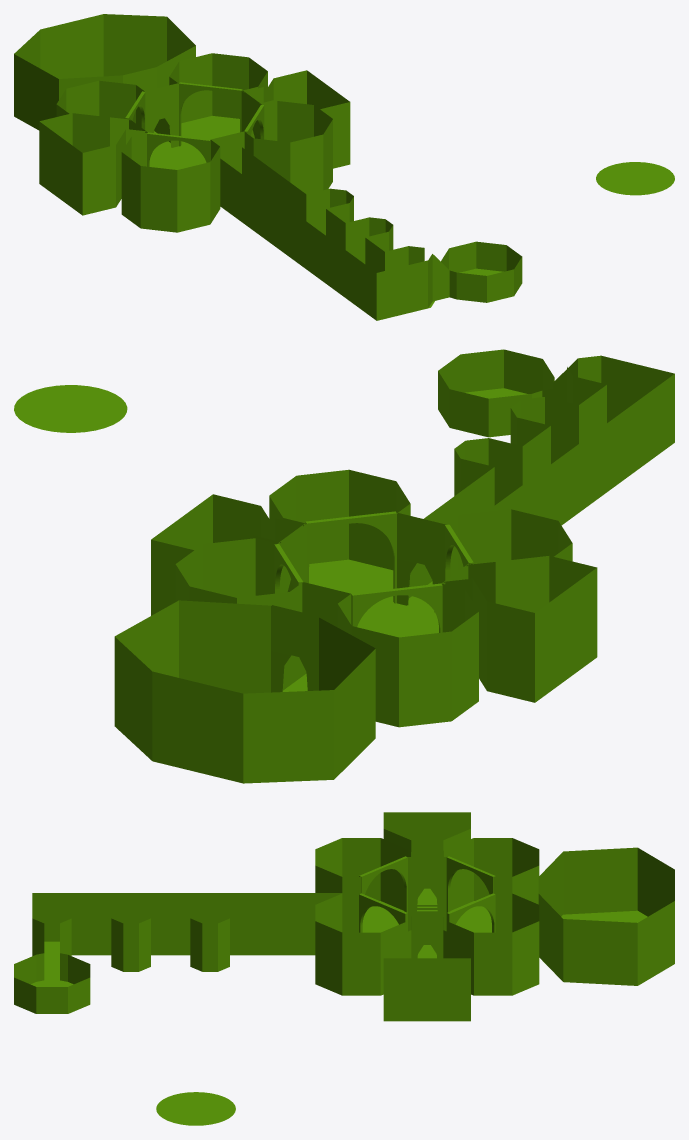
File: Graybox_Colliders.fbx
3 renders of one model, top to bottom at view 1: azimuth 30°, elevation 25°; view 2: azimuth 150°, elevation 25°; view 3: azimuth 270°, elevation 25°, orthographic. The views are drawn at different scales.
Parts seen in each view (by area): view 1: Circle.078, Walls - Winter Garden.001, Circle.081, Circle.085, Circle.082, Circle.083, Circle.079, Circle.080, Circle.084, Cylinder.072, Archway Wall Fill.012, Circle.075 (+6 smaller); view 2: Walls - Winter Garden.001, Circle.078, Circle.081, Circle.084, Circle.082, Circle.079, Circle.083, Circle.080, Circle.085, Cylinder.072, Archway Wall Fill.010, Archway Wall Fill.009 (+8 smaller); view 3: Circle.078, Walls - Winter Garden.001, Circle.080, Circle.083, Circle.082, Circle.084, Circle.085, Circle.081, Circle.079, Cylinder.072, Archway Wall Fill.013, Archway Wall Fill.011 (+8 smaller).
Boxes of the visible parts, x1,y1,x2,y2 form: Circle.078: (110, 87, 456, 320); Walls - Winter Garden.001: (14, 14, 195, 130); Circle.081: (39, 113, 125, 215); Circle.085: (121, 132, 220, 232); Circle.082: (244, 101, 332, 194); Circle.083: (169, 53, 267, 123); Circle.079: (441, 241, 522, 302); Circle.080: (263, 70, 350, 168); Circle.084: (56, 80, 144, 127); Cylinder.072: (596, 162, 674, 195); Archway Wall Fill.012: (145, 83, 178, 152); Circle.075: (179, 115, 239, 154); Walls - Winter Garden.001: (114, 600, 375, 783); Circle.078: (252, 355, 674, 690); Circle.081: (472, 556, 597, 702); Circle.084: (337, 583, 478, 727); Circle.082: (269, 469, 410, 570); Circle.079: (438, 349, 554, 437); Circle.083: (175, 538, 303, 612); Circle.080: (151, 494, 275, 615); Circle.085: (445, 509, 572, 576); Cylinder.072: (14, 385, 127, 432); Archway Wall Fill.010: (271, 605, 319, 692); Archway Wall Fill.009: (397, 513, 445, 612); Circle.078: (32, 851, 443, 981); Walls - Winter Garden.001: (538, 847, 674, 985); Circle.080: (383, 930, 470, 1021); Circle.083: (446, 893, 539, 995); Circle.082: (315, 893, 407, 995); Circle.084: (446, 838, 539, 910); Circle.085: (315, 838, 407, 910); Circle.081: (383, 812, 470, 856); Circle.079: (14, 955, 90, 1013); Cylinder.072: (156, 1092, 235, 1125); Archway Wall Fill.013: (408, 857, 446, 912); Archway Wall Fill.011: (408, 913, 446, 958).
Size of the model in its own units: 8732 by 1297 by 10029.
